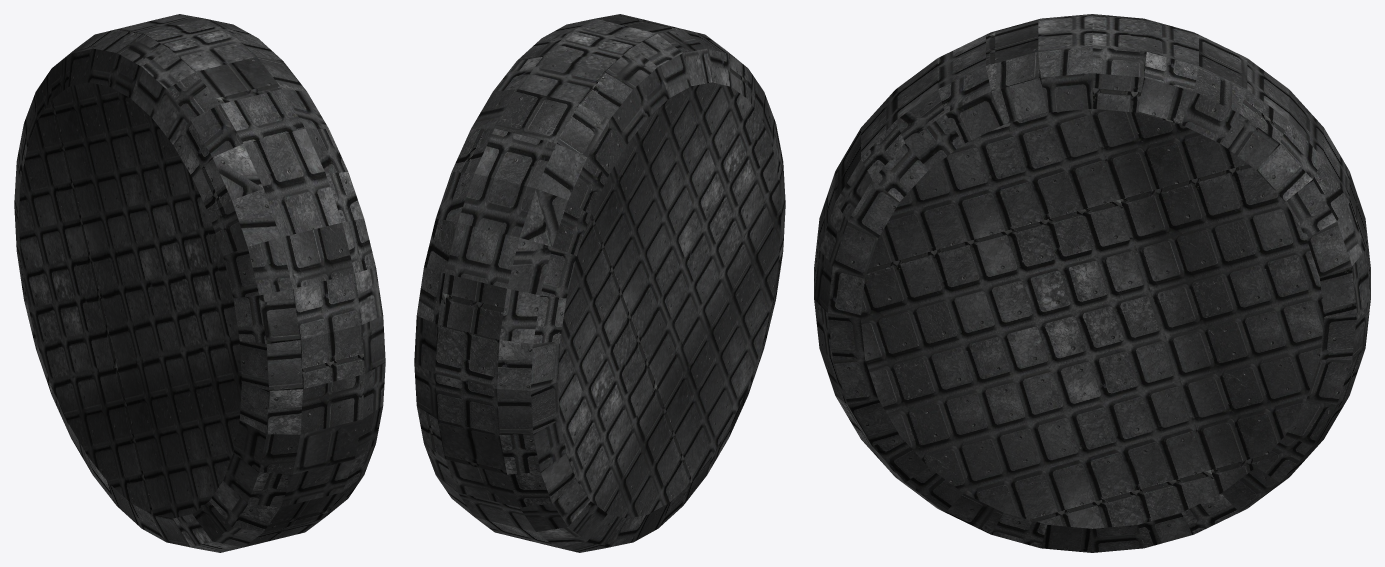
File: tire.glb
3 views of the same model, side by side, from view 1: azimuth 30°, elevation 25°; view 2: azimuth 150°, elevation 25°; view 3: azimuth 270°, elevation 25° (orthographic). The views are drawn at different scales.
Parts seen in each view (by area): view 1: Cylinder; view 2: Cylinder; view 3: Cylinder.
Part boxes in pixels (<box>): Cylinder: <box>14,14,385,552</box>; Cylinder: <box>414,14,785,552</box>; Cylinder: <box>814,14,1370,552</box>.
Size of the model in its own units: 0.18 by 0.6 by 0.6.
1 material, 1 textured.
